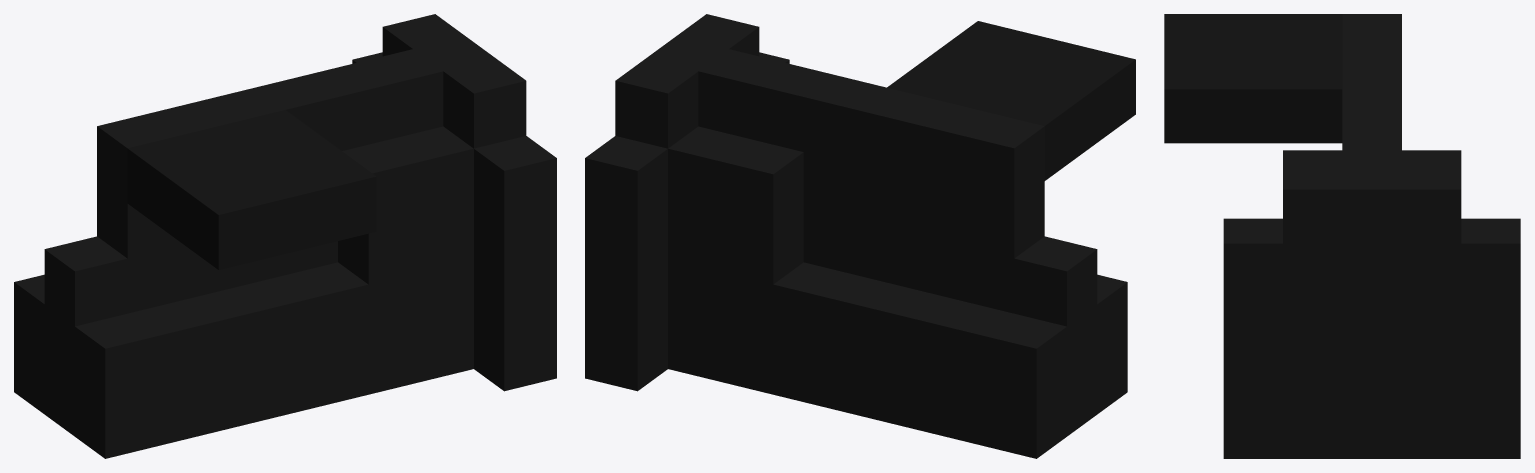
Rendered from Kar98k_bolt_safety_on.obj.
3 renders of one model, left to right at view 1: azimuth 30°, elevation 25°; view 2: azimuth 150°, elevation 25°; view 3: azimuth 270°, elevation 25°, orthographic. The views are drawn at different scales.
Bounding box in the file's own units: 0.8 × 0.5 × 0.6.
Materials: 1 (1 with a texture image).
